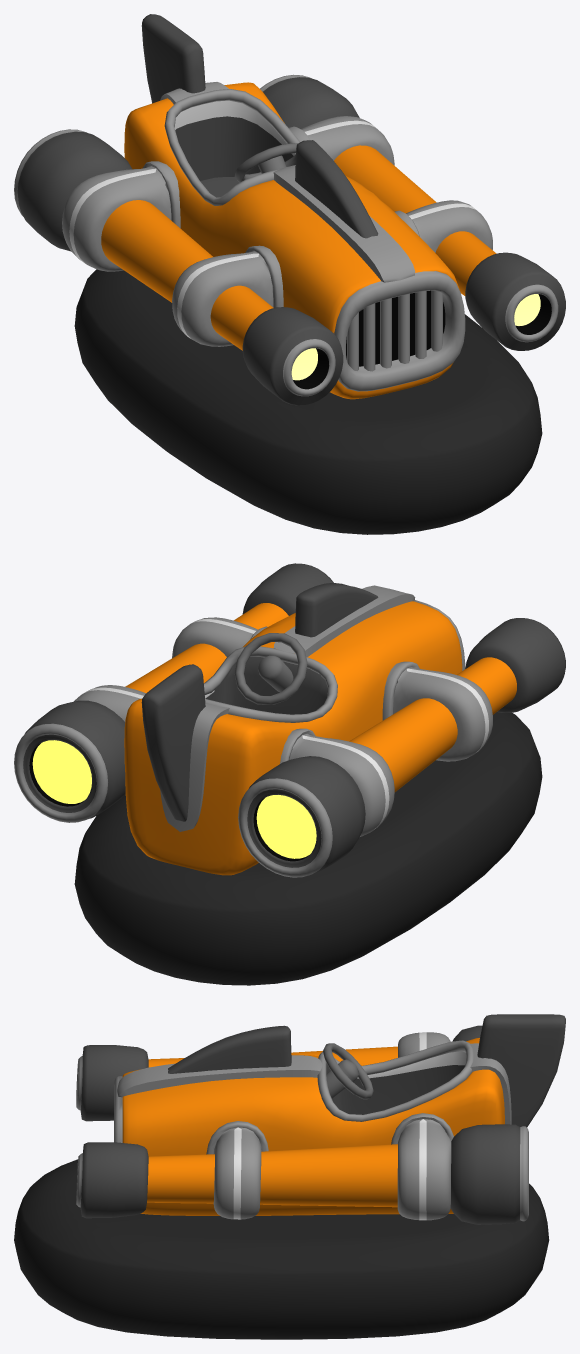
Rendered from mesh_Car_Menu_G.fbx.
The picture shows the model from 3 angles, top to bottom: view 1: azimuth 30°, elevation 25°; view 2: azimuth 150°, elevation 25°; view 3: azimuth 270°, elevation 25°; orthographic projection. The views are drawn at different scales.
Parts seen in each view (by area): view 1: mesh_Car_Menu_G; view 2: mesh_Car_Menu_G; view 3: mesh_Car_Menu_G.
Part boxes in pixels (x1,y1,x2,y2): mesh_Car_Menu_G: (14, 14, 565, 534); mesh_Car_Menu_G: (14, 563, 565, 985); mesh_Car_Menu_G: (14, 1014, 565, 1339).
Bounding box in the file's own units: 1.85 × 1.69 × 3.07.
